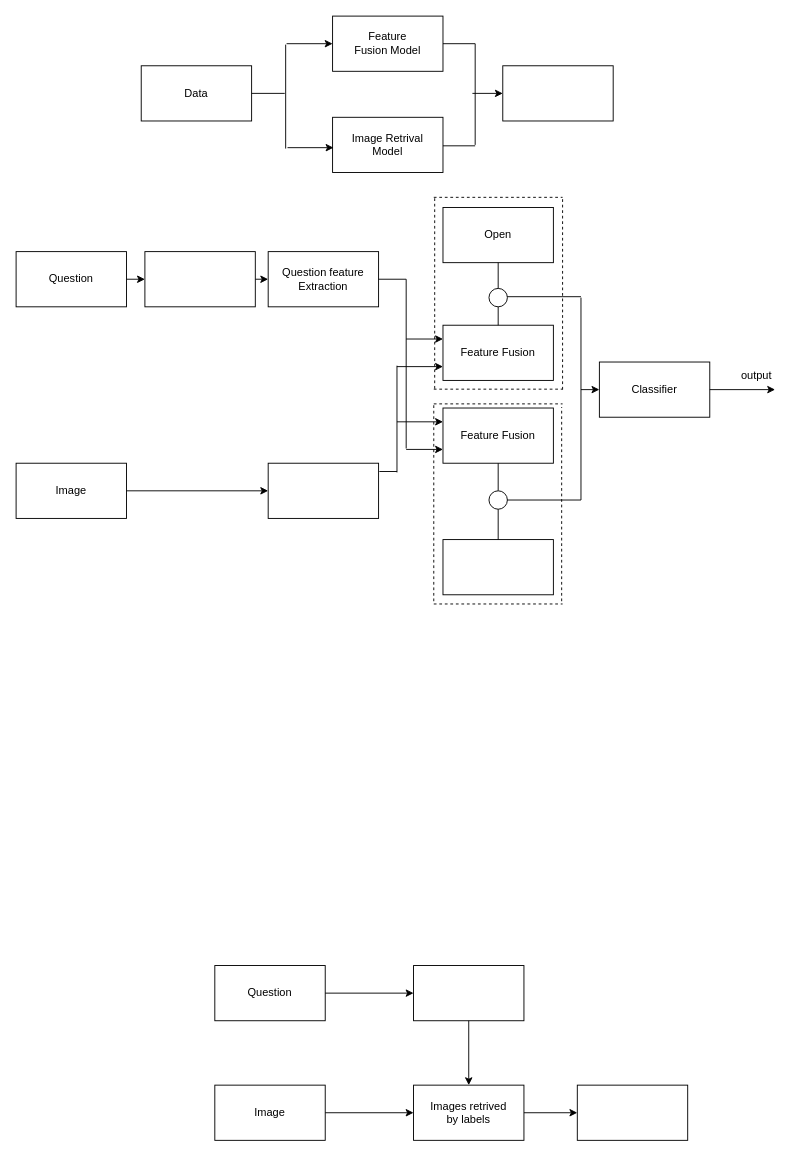
Image size: 800x1156. Some labels were removed from this diagram. The box of each missing label's shape, as (x1, y1, x2, y2) in pixels:
Ans: (576, 1084, 688, 1140)
Closed: (442, 539, 553, 595)
Concardinator: (502, 65, 613, 121)
Content type classifier: (144, 251, 255, 307)
Image feature Extration: (267, 462, 379, 518)
Labels as answers of Trained dataset: (413, 965, 524, 1021)
